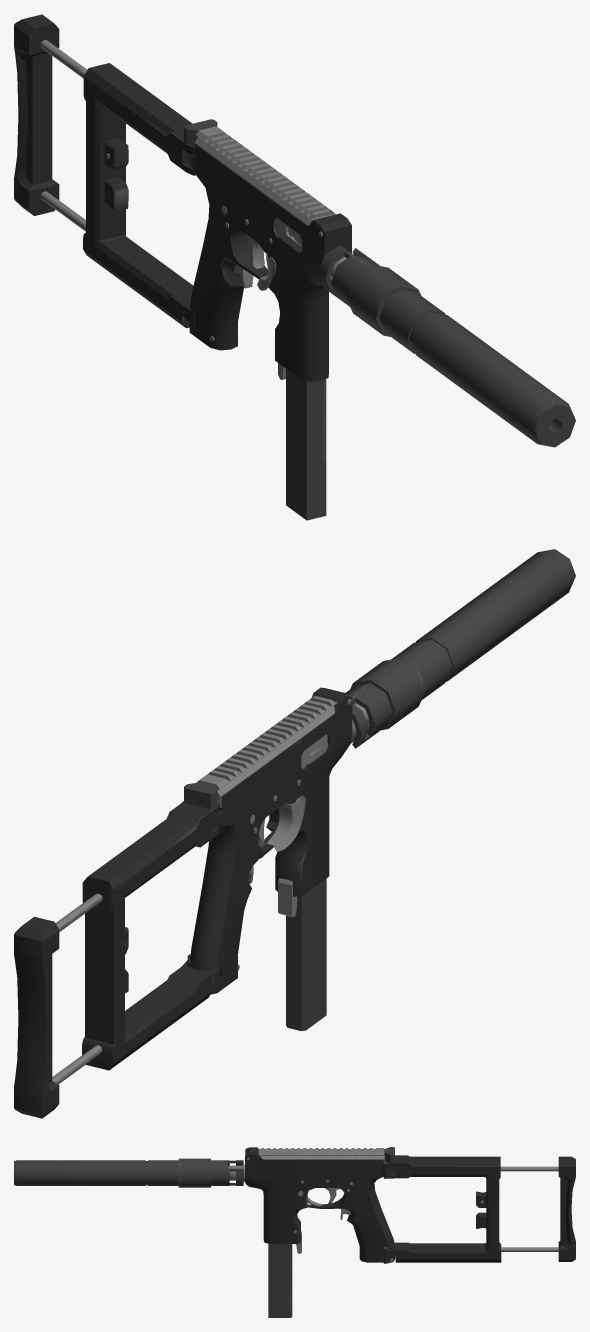
Rendered from pdw.glb.
3 views of the same model, one above another, from view 1: azimuth 30°, elevation 25°; view 2: azimuth 150°, elevation 25°; view 3: azimuth 270°, elevation 25° (orthographic). The views are drawn at different scales.
Parts seen in each view (by area): view 1: Stock_IDW_0.001, Reciever_IDW_0.001, Supressor_IDW_0.001, Magazine_IDW_0.001, Rail_IDW_0.001, Upper_IDW_0.001; view 2: Stock_IDW_0.001, Reciever_IDW_0.001, Supressor_IDW_0.001, Magazine_IDW_0.001, Rail_IDW_0.001, TriggerGuardRight_IDW_0.001, Upper_IDW_0.001, Charging Handle_IDW_0.001; view 3: Reciever_IDW_0.001, Stock_IDW_0.001, Supressor_IDW_0.001, Magazine_IDW_0.001, Rail_IDW_0.001, Upper_IDW_0.001.
Part boxes in pixels (x1,y1,x2,y2): Stock_IDW_0.001: (14,14,195,328); Reciever_IDW_0.001: (188,144,351,381); Supressor_IDW_0.001: (318,245,575,447); Magazine_IDW_0.001: (286,369,326,520); Rail_IDW_0.001: (196,126,335,220); Upper_IDW_0.001: (194,137,312,225); Stock_IDW_0.001: (14,801,220,1118); Reciever_IDW_0.001: (187,687,352,994); Supressor_IDW_0.001: (346,549,575,748); Magazine_IDW_0.001: (286,878,326,1030); Rail_IDW_0.001: (196,695,337,790); TriggerGuardRight_IDW_0.001: (266,795,305,852); Upper_IDW_0.001: (217,706,334,807); Charging Handle_IDW_0.001: (184,782,217,809); Reciever_IDW_0.001: (245,1147,395,1263); Stock_IDW_0.001: (383,1155,575,1262); Supressor_IDW_0.001: (14,1158,243,1187); Magazine_IDW_0.001: (268,1243,292,1317); Rail_IDW_0.001: (258,1148,384,1155); Upper_IDW_0.001: (260,1155,384,1162).
Size of the model in its own units: 0.0469 by 0.2774 by 0.855.
Materials: 2 (2 with a texture image).
